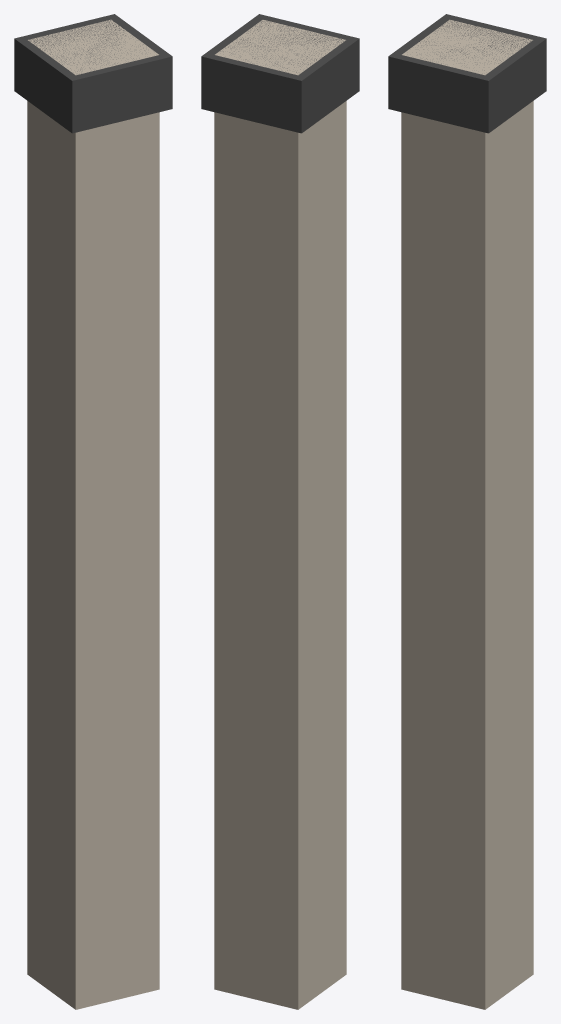
Rendered from KIT_Corner_Plaster.glb.
The picture shows the model from 3 angles, left to right: view 1: azimuth 30°, elevation 25°; view 2: azimuth 150°, elevation 25°; view 3: azimuth 330°, elevation 25°; orthographic projection.
Parts seen in each view (by area): view 1: KIT_Corner_Plaster; view 2: KIT_Corner_Plaster; view 3: KIT_Corner_Plaster.
Part boxes in pixels (left/top/right/bottom): KIT_Corner_Plaster: left=14, top=14, right=172, bottom=1009; KIT_Corner_Plaster: left=201, top=14, right=359, bottom=1009; KIT_Corner_Plaster: left=388, top=14, right=546, bottom=1009.
Bounding box in the file's own units: 0.36 × 3.2 × 0.36.
